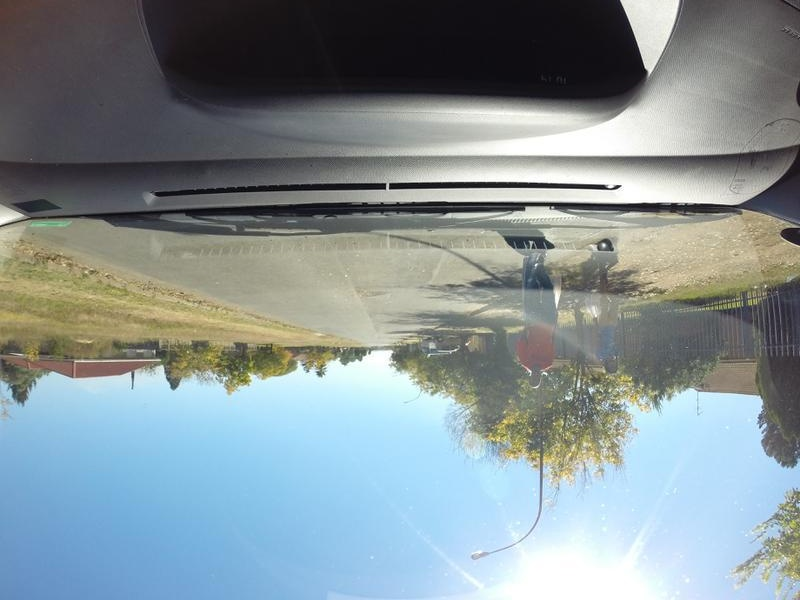pothole: (415, 276, 467, 299), (338, 283, 383, 305)
